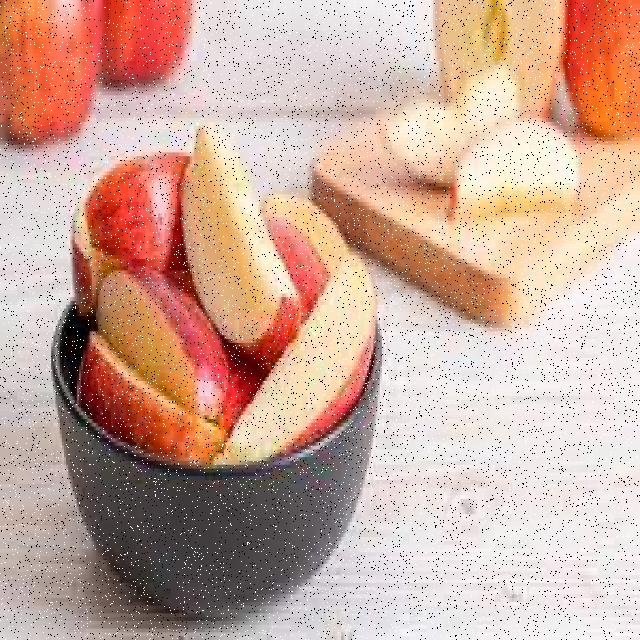Apple: (233, 249, 374, 441), (182, 127, 300, 348), (104, 262, 230, 414), (79, 328, 224, 454), (379, 71, 517, 175), (0, 0, 98, 137), (449, 124, 579, 214), (86, 151, 184, 268), (565, 0, 639, 133), (101, 1, 190, 83), (279, 199, 329, 292), (68, 214, 100, 304)
